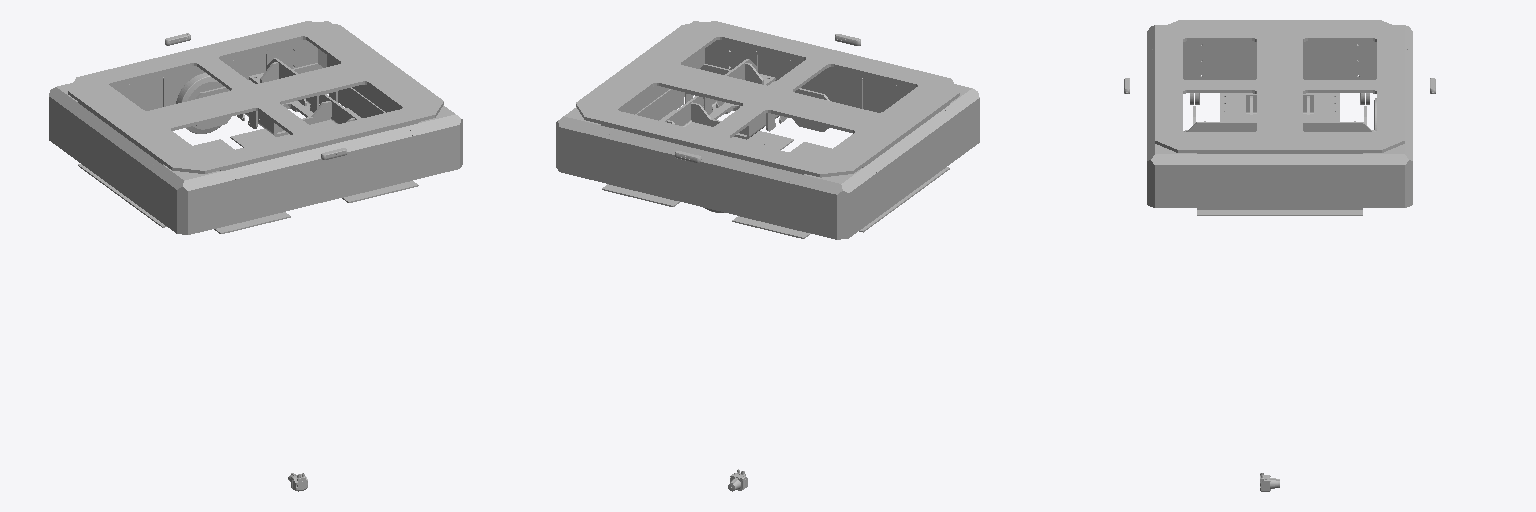
robot.urdf — spmr02:
<?xml version="1.0" encoding="utf-8"?>

<robot name="spmr02">

  <link name="base_link">
    <inertial>
      <origin xyz="0.036333 3.2862E-05 0.086193" rpy="0 0 0" />
      <mass value="50" />
      <inertia ixx="1.9204" ixy="-2.4093E-16" ixz="-0.0004014" iyy="3.0624" iyz="1.9122E-14" izz="4.7207" />
    </inertial>
    <visual>
      <origin xyz="0 0 0" rpy="0 0 0" />
      <geometry>
        <mesh filename="package://spmr02/meshes/base_link.STL" />
      </geometry>
      <material name="gazebo/Yellow">
        <color rgba="0.75294 0.75294 0.75294 1" />
      </material>
    </visual>
    <collision>
      <origin xyz="0 0 0" rpy="0 0 0" />
      <geometry>
        <mesh filename="package://spmr02/meshes/base_link.STL" />
      </geometry>
    </collision>
    <surface>
      <friction>
        <ode>
          <mu>0.001</mu>
          <mu2>0.001</mu2>
        </ode>
      </friction>
    </surface>
  </link>


  <link name="right_wheel_link">
    <inertial>
      <origin xyz="0.83427 1.2432E-08 1.1348E-14" rpy="0 0 0" />
      <mass value="2.0043" />
      <inertia ixx="0.020935" ixy="1.5041E-10" ixz="1.4232E-17" iyy="0.010841" iyz="8.1024E-19" izz="0.010841" />
    </inertial>
    <visual>
      <origin xyz="0 0 0" rpy="0 0 0" />
      <geometry>
        <mesh filename="package://spmr02/meshes/right_wheel_link.STL" />
      </geometry>
      <material name="gazebo/Block">
        <color rgba="0.75294 0.75294 0.75294 1" />
      </material>
    </visual>
    <collision>
      <origin xyz="0 0 0" rpy="0 0 0" />
      <geometry>
        <mesh filename="package://spmr02/meshes/right_wheel_link.STL" />
      </geometry>
    </collision>
  </link>
  <joint name="right_wheel_joint" type="continuous">
    <origin xyz="0 0.40407 -0.001" rpy="1.5708 0 -1.5708" />
    <parent link="base_link" />
    <child link="right_wheel_link" />
    <axis xyz="-1 0 0" />
  </joint>

  <link name="left_wheel_link">
    <inertial>
      <origin xyz="0.83427 2.7462E-14 -1.1491E-14" rpy="0 0 0" />
      <mass value="2.0043" />
      <inertia ixx="0.020935" ixy="3.6958E-18" ixz="1.3244E-17" iyy="0.010841" iyz="4.6529E-19" izz="0.010841" />
    </inertial>
    <visual>
      <origin xyz="0 0 0" rpy="0 0 0" />
      <geometry>
        <mesh filename="package://spmr02/meshes/left_wheel_link.STL" />
      </geometry>
      <material name="gazebo/Block">
        <color rgba="0.75294 0.75294 0.75294 1" />
      </material>
    </visual>
    <collision>
      <origin xyz="0 0 0" rpy="0 0 0" />
      <geometry>
        <mesh filename="package://spmr02/meshes/left_wheel_link.STL" />
      </geometry>
    </collision>
  </link>
  <joint name="left_wheel_joint" type="continuous">
    <origin xyz="0 -0.40407 -0.001" rpy="1.5708 0 1.5708" />
    <parent link="base_link" />
    <child link="left_wheel_link" />
    <axis xyz="1 0 0" />
  </joint>

  <!-- #######################  camera   ################### -->

  <link name="L_camera">
    <inertial>
      <origin xyz="0.00026865 0.00010489 -0.013719" rpy="0 0 0" />
      <mass value="0.046733" />
      <inertia ixx="3.8943E-06" ixy="1.9581E-08" ixz="-1.9673E-08" iyy="5.6937E-05" iyz="-2.7019E-08" izz="5.9986E-05" />
    </inertial>
    <visual>
      <origin xyz="0 0 0" rpy="0 0 0" />
      <geometry>
        <mesh filename="package://spmr02/meshes/L_camera.STL" />
      </geometry>
      <material name="">
        <color rgba="0.75294 0.75294 0.75294 1" />
      </material>
    </visual>
    <!-- <collision>
      <origin xyz="0 0 0" rpy="0 0 0" />
      <geometry>
        <mesh filename="package://spmr02/meshes/L_camera.STL" />
      </geometry>
    </collision> -->
  </link>

  <joint name="L_camera-joint" type="fixed">
    <!-- <origin xyz="0 -0.5945 0.18" rpy="0 0 3.1416" /> -->
    <!-- <origin xyz="0 -0.5945 0.18" rpy="-3.1416 0 3.1416" /> -->
    <origin xyz="0 -0.6595 0.19" rpy="-3.1416 0 3.1416" />
    <parent link="base_link" />
    <child link="L_camera" />
    <axis xyz="0 0 0" />
  </joint>

  <link name="R_camera">
    <inertial>
      <origin xyz="0.00026865 0.00010489 -0.013719" rpy="0 0 0" />
      <mass value="0.046733" />
      <inertia ixx="3.8943E-06" ixy="1.9581E-08" ixz="-1.9673E-08" iyy="5.6937E-05" iyz="-2.7019E-08" izz="5.9986E-05" />
    </inertial>
    <visual>
      <origin xyz="0 0 0" rpy="0 0 0" />
      <geometry>
        <mesh filename="package://spmr02/meshes/R_camera.STL" />
      </geometry>
      <material name="">
        <color rgba="0.75294 0.75294 0.75294 1" />
      </material>
    </visual>
    <!-- <collision>
      <origin xyz="0 0 0" rpy="0 0 0" />
      <geometry>
        <mesh filename="package://spmr02/meshes/R_camera.STL" />
      </geometry>
    </collision> -->
  </link>

  <joint name="R_camera-joint" type="fixed">
    <!-- <origin xyz="0 0.5945 0" rpy="-1.5707 0 3.1416" /> -->
    <!-- <origin xyz="0 0.5945 0.18" rpy="-3.1416 0 3.1416" /> -->
    <origin xyz="0 0.6595 0.19" rpy="-3.1416 0 3.1416" />
    <parent link="base_link" />
    <child link="R_camera" />
    <axis xyz="0 0 0" />
  </joint>

  <!-- <joint name="R_camera-joint" type="fixed">
    <origin xyz="0 0 0" rpy="0 0 0" />
    <parent link="base_link" />
    <child link="R_camera" />
    <axis xyz="0 0 0" />
  </joint> -->

  <!-- ####################################################### -->





  <link name="RF_scan_link">
    <inertial>
      <origin xyz="0.60802 -0.48579 -0.022036" rpy="0 0 0" />
      <mass value="0.008" />
      <inertia ixx="7.0546E-07" ixy="-2.5434E-07" ixz="-6.0478E-08" iyy="8.2319E-07" iyz="5.0403E-08" izz="1.2827E-06" />
    </inertial>
    <visual>
      <origin xyz="0 0 0" rpy="0 0 0" />
      <geometry>
        <mesh filename="package://spmr02/meshes/RF_scan_link.STL" />
      </geometry>
      <material name="gazebo/Red">
        <color rgba="0.75294 0.75294 0.75294 1" />
      </material>
    </visual>
    <collision>
      <origin xyz="0 0 0" rpy="0 0 0" />
      <geometry>
        <mesh filename="package://spmr02/meshes/RF_scan_link.STL" />
      </geometry>
    </collision>
  </link>


  <joint name="RF_scan_joint" type="fixed">
    <origin xyz="0 0 0" rpy="0 0 0" />
    <parent link="base_link" />
    <child link="RF_scan_link" />
    <axis xyz="0 0 0" />
  </joint>



  <link name="LR_scan_link">
    <inertial>
      <origin xyz="-0.60802 0.48579 -0.022036" rpy="0 0 0" />
      <mass value="0.008" />
      <inertia ixx="7.0546E-07" ixy="-2.5434E-07" ixz="6.0478E-08" iyy="8.2319E-07" iyz="-5.0403E-08" izz="1.2827E-06" />
    </inertial>
    <visual>
      <!-- <origin xyz="0 0 1" rpy="0 0 0" /> -->
      <!-- <origin xyz="0.60802 -0.48579 1" rpy="0 0 0" /> -->
      <!-- <origin xyz="0 0 0" rpy="0 0 0" /> -->
      <!-- <origin xyz="-0.60802 0.48579 -0.022036" rpy="0 0 0" /> -->
      <!-- <origin xyz="0.60802 -0.48579 -0.022036" rpy="0 0 0" /> -->
      <origin xyz="0.60802 -0.48579 0" rpy="0 0 0" />
      <!-- <origin xyz="0.60802 -0.48579 -0.022036" rpy="0 0 -2.35619449" /> -->
      <geometry>
        <mesh filename="package://spmr02/meshes/LR_scan_link.STL" />
      </geometry>
      <material name="gazebo/Blue">
        <color rgba="0.75294 0.75294 0.75294 1" />
      </material>
    </visual>
    <!-- <collision>
      <origin xyz="0.60802 -0.48579 0" rpy="0 0 0" />
      <geometry>
        <mesh filename="package://spmr02/meshes/LR_scan_link.STL" />
      </geometry>
    </collision> -->
  </link>


  <joint name="LR_scan_joint" type="fixed">
    <!-- <origin xyz="0 0 0" rpy="0 0 0" /> -->
    <!-- <origin xyz="-0.60802 0.48579 -0.022036" rpy="0 0 0" /> -->
    <!-- <origin xyz="-0.60802 0.48579 1.0" rpy="0 0 0" /> -->
    <!-- <origin xyz="-0.60802 0.48579 -0.08" rpy="0 0 2.35619449" /> -->
    <!-- <origin xyz="-0.61002 0.48579 -0.08" rpy="0 0 2.35619449" /> -->
    <!-- <origin xyz="-0.61502 0.50079 -0.08" rpy="0 0 2.35619449" /> -->
    <!-- <origin xyz="-0.61502 0.48579 -0.08" rpy="0 0 2.35619449" /> -->
    <!-- <origin xyz="-0.71502 0.58579 -0.08" rpy="0 0 2.35619449" /> -->
    <!-- <origin xyz="-0.63002 0.49079 -0.08" rpy="0 0 2.35619449" /> -->
    <origin xyz="-0.60802 0.48079 -0.08" rpy="0 0 2.35619449" />
    <parent link="base_link" />
    <child link="LR_scan_link" />
    <axis xyz="0 0 0" />
  </joint>


  <gazebo>
    <plugin name="gazebo_ros_control" filename="libgazebo_ros_control.so">
      <robotNamespace>/spmr02</robotNamespace>
    </plugin>

    <plugin name="differential_drive_controller" filename="libgazebo_ros_diff_drive.so">
      <alwaysOn>true</alwaysOn>
      <updateRate>100</updateRate>
      <rosDebugLevel>1</rosDebugLevel>
      <leftJoint>left_wheel_joint</leftJoint>
      <rightJoint>right_wheel_joint</rightJoint>
      <torque>500</torque>
      <commandTopic>spmr/cmd_val</commandTopic>
      <odometryTopic>/odom</odometryTopic>
      <odometryFrame>odom</odometryFrame>
      <publishTf>1</publishTf>
      <publishWheelTF>0</publishWheelTF>
      <publishOdomTF>1</publishOdomTF>
      <publishWheelJointState>1</publishWheelJointState>
      <wheelAcceleration>1</wheelAcceleration>
      <wheelTorque>500</wheelTorque>
      <odometrySource>world</odometrySource>
      <robotBaseFrame>base_link</robotBaseFrame>
      <wheelSeparation>0.8</wheelSeparation>
      <wheelDiameter>0.265</wheelDiameter>
    </plugin>
  </gazebo>

  <gazebo reference="RF_scan_link">
    <material value="Gazebo/Red" />
    <sensor type="ray" name="RF_scan">
      <always_on>true</always_on>
      <update_rate>15</update_rate>
      <pose>0.60802 -0.48579 -0.022036 0 0 0</pose>
      <!-- <pose>0 0 0 0 0 0</pose> -->
      <visualize>0</visualize>
      <ray>
        <!-- <pose>0 0 0 0 0 0</pose> -->
        <scan>
          <horizontal>
            <samples>271</samples>
            <resolution>1</resolution>
            <min_angle>-2.35619449019</min_angle>
            <max_angle>2.35619449019</max_angle>
          </horizontal>
        </scan>
        <range>
          <min>0.05</min>
          <max>15.0</max>
          <resolution>0.01</resolution>
        </range>
      </ray>
      <plugin name="gazebo_ros_RF_scan_controller" filename="libgazebo_ros_laser.so">
        <gaussianNoise>0.005</gaussianNoise>
        <alwaysOn>true</alwaysOn>
        <updateRate>15</updateRate>
        <topicName>RF_scan</topicName>
        <frameName>RF_scan</frameName>
      </plugin>
    </sensor>
  </gazebo>


  <gazebo reference="LR_scan_link">
    <material value="Gazebo/Blue" />
    <sensor type="ray" name="LR_scan">
      <always_on>true</always_on>
      <update_rate>15</update_rate>
      <!-- <pose>-0.60802 0.48579 -0.022036 0 0 0</pose> -->
      <pose>0 0 0 0 0 0</pose>
      <visualize>1</visualize>
      <ray>
        <scan>
          <horizontal>
            <samples>271</samples>
            <resolution>1</resolution>
            <min_angle>-2.35619449019</min_angle>
            <max_angle>2.35619449019</max_angle>
          </horizontal>
        </scan>
        <range>
          <min>0.05</min>
          <max>15.0</max>
          <resolution>0.01</resolution>
        </range>
      </ray>
      <plugin name="gazebo_ros_LR_scan_controller" filename="libgazebo_ros_laser.so">
        <gaussianNoise>0.005</gaussianNoise>
        <alwaysOn>true</alwaysOn>
        <updateRate>15</updateRate>
        <topicName>LR_scan</topicName>
        <frameName>LR_scan</frameName>
      </plugin>
    </sensor>
  </gazebo>

  <!-- #######################   camera plug in   ######################### -->

  <!-- R_camera sensor -->
  <gazebo reference="R_camera">
    <sensor name="R_camera" type="camera">
      <camera name="R_camera">
        <horizontal_fov>1.047</horizontal_fov>
        <image>
          <width>640</width>
          <height>480</height>
          <format>R8G8B8</format>
        </image>
        <clip>
          <near>0.1</near>
          <far>10.0</far>
        </clip>
      </camera>
      <plugin name="camera_controller" filename="libgazebo_ros_camera.so">
        <alwaysOn>true</alwaysOn>
        <updateRate>30.0</updateRate>
        <cameraName>R_camera</cameraName>
        <imageTopicName>R_camera_image_raw</imageTopicName>
        <cameraInfoTopicName>R_camera_info</cameraInfoTopicName>
        <frameName>R_camera</frameName>
        <hackBaseline>0.07</hackBaseline>
        <distortionK1>0.0</distortionK1>
        <distortionK2>0.0</distortionK2>
        <distortionK3>0.0</distortionK3>
        <distortionT1>0.0</distortionT1>
        <distortionT2>0.0</distortionT2>
        <Cx>320.5</Cx>
        <Cy>240.5</Cy>
        <Fx>554.255</Fx>
        <Fy>554.255</Fy>
        <height>480</height>
        <width>640</width>
        <distortion_model>plumb_bob</distortion_model>
      </plugin>
    </sensor>
  </gazebo>

  <!-- L_camera sensor -->
  <gazebo reference="L_camera">
    <sensor name="L_camera" type="camera">
      <camera name="L_camera">
        <horizontal_fov>1.047</horizontal_fov>
        <image>
          <width>640</width>
          <height>480</height>
          <format>R8G8B8</format>
        </image>
        <clip>
          <near>0.1</near>
          <far>10.0</far>
        </clip>
      </camera>
      <plugin name="camera_controller" filename="libgazebo_ros_camera.so">
        <alwaysOn>true</alwaysOn>
        <updateRate>30.0</updateRate>
        <cameraName>L_camera</cameraName>
        <imageTopicName>L_camera_image_raw</imageTopicName>
        <cameraInfoTopicName>L_camera_info</cameraInfoTopicName>
        <frameName>L_camera</frameName>
        <hackBaseline>0.07</hackBaseline>
        <distortionK1>0.0</distortionK1>
        <distortionK2>0.0</distortionK2>
        <distortionK3>0.0</distortionK3>
        <distortionT1>0.0</distortionT1>
        <distortionT2>0.0</distortionT2>
        <Cx>320.5</Cx>
        <Cy>240.5</Cy>
        <Fx>554.255</Fx>
        <Fy>554.255</Fy>
        <height>480</height>
        <width>640</width>
        <distortion_model>plumb_bob</distortion_model>
      </plugin>
    </sensor>
  </gazebo>
  

  <!-- #################################################################### -->

</robot>

--- Render facts (derived) ---
Views: 3 orthographic renders of the robot side by side, from view 1: azimuth 30°, elevation 25°; view 2: azimuth 150°, elevation 25°; view 3: azimuth 270°, elevation 25°.
Robot: spmr02 — 7 links, 6 joints (2 continuous, 4 fixed); root link base_link; default pose: all joints at 0.
Links seen in each view (by area): view 1: base_link, left_wheel_link; view 2: base_link; view 3: base_link.
Link boxes in pixels (x1,y1,x2,y2): base_link: [49, 21, 462, 234]; left_wheel_link: [176, 73, 224, 133]; base_link: [556, 21, 979, 239]; base_link: [1147, 20, 1412, 215].
Bounding box of the posed robot: 1.39 × 1.35 × 1.85 m (x, y, z).
Meshes: 7 distinct files referenced, 5 mesh visuals loaded (5 binary STL); not drawn: 2 (reference not matched to a file when rendering).
